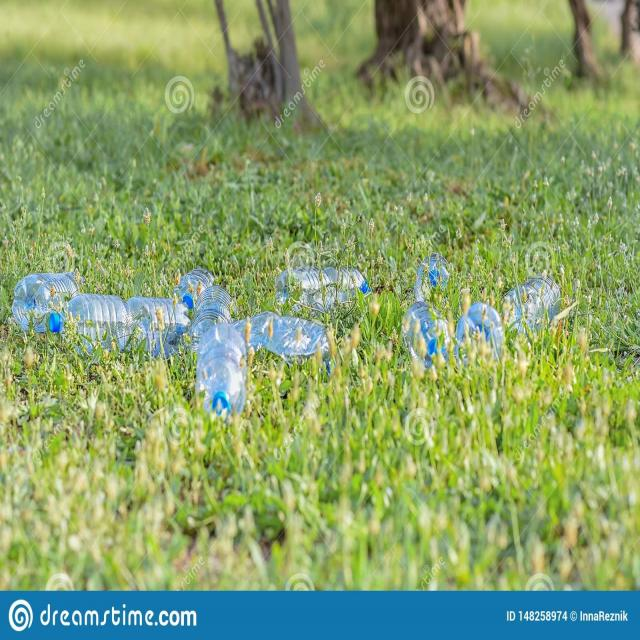bottle: (172, 270, 326, 411), (2, 265, 186, 365), (391, 265, 511, 384)
